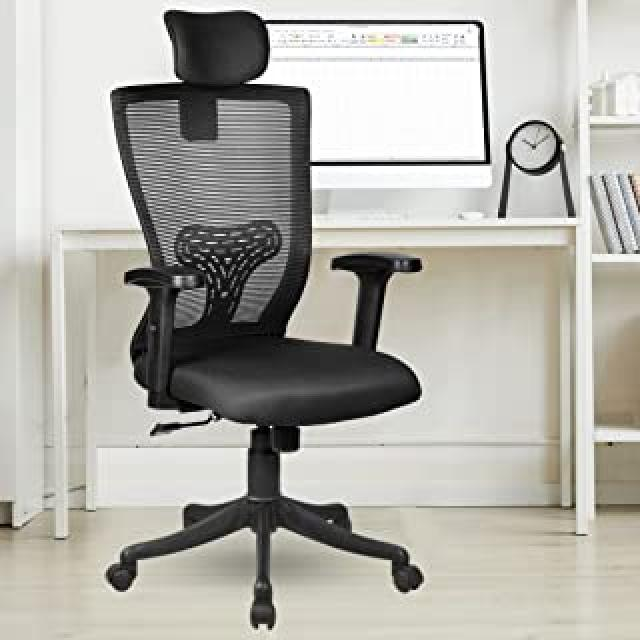chair: (103, 9, 423, 628)
